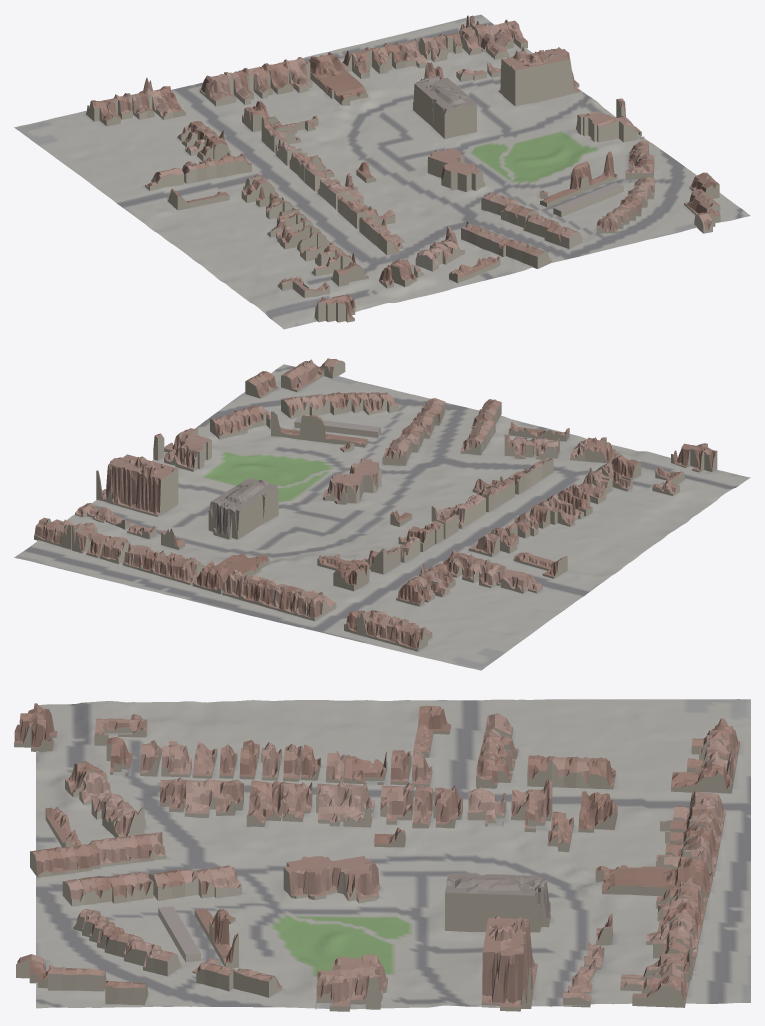
3 renders of one model, top to bottom at view 1: azimuth 30°, elevation 25°; view 2: azimuth 150°, elevation 25°; view 3: azimuth 270°, elevation 25°, orthographic. The views are drawn at different scales.
Visible parts, largest first — view 1: ground, b:way/170216479, b:way/170216469, b:way/671819658, b:way/170216414, b:way/170216482, b:way/170216398, b:way/93136311, b:way/170216468, b:way/170216391, b:way/170216412, b:way/179834030 (+10 smaller); view 2: ground, b:way/170216479, b:way/170216469, b:way/170216414, b:way/671819658, b:way/170216482, b:way/170216398, b:way/93136311, b:way/170216391, b:way/170216401, b:way/170216468, b:way/170216419 (+7 smaller); view 3: ground, b:way/170216469, b:way/170216479, b:way/170216414, b:way/671819658, b:way/170216482, b:way/170216391, b:way/170216460, b:way/93136311, b:way/170216398, b:way/671819107, b:way/170216401 (+45 smaller).
Boxes of the visible parts, x1=… form: ground: x1=14, y1=14, x2=750, y2=329; b:way/170216479: x1=498, y1=46, x2=580, y2=106; b:way/170216469: x1=413, y1=75, x2=476, y2=138; b:way/671819658: x1=309, y1=52, x2=368, y2=105; b:way/170216414: x1=427, y1=148, x2=485, y2=191; b:way/170216482: x1=576, y1=111, x2=644, y2=142; b:way/170216398: x1=540, y1=151, x2=617, y2=207; b:way/93136311: x1=314, y1=294, x2=355, y2=322; b:way/170216468: x1=553, y1=182, x2=623, y2=217; b:way/170216391: x1=317, y1=173, x2=363, y2=209; b:way/170216412: x1=379, y1=259, x2=416, y2=288; b:way/179834030: x1=449, y1=256, x2=500, y2=283; ground: x1=14, y1=364, x2=750, y2=670; b:way/170216479: x1=96, y1=454, x2=178, y2=516; b:way/170216469: x1=208, y1=478, x2=278, y2=539; b:way/170216414: x1=323, y1=459, x2=381, y2=504; b:way/671819658: x1=192, y1=553, x2=269, y2=594; b:way/170216482: x1=164, y1=428, x2=211, y2=471; b:way/170216398: x1=271, y1=411, x2=367, y2=447; b:way/93136311: x1=671, y1=443, x2=717, y2=472; b:way/170216391: x1=431, y1=494, x2=485, y2=528; b:way/170216401: x1=333, y1=563, x2=369, y2=591; b:way/170216468: x1=294, y1=417, x2=380, y2=437; b:way/170216419: x1=500, y1=570, x2=542, y2=593; ground: x1=36, y1=699, x2=750, y2=1009; b:way/170216469: x1=445, y1=873, x2=550, y2=932; b:way/170216479: x1=481, y1=915, x2=537, y2=1011; b:way/170216414: x1=283, y1=856, x2=380, y2=903; b:way/671819658: x1=595, y1=857, x2=712, y2=897; b:way/170216482: x1=315, y1=954, x2=387, y2=1011; b:way/170216391: x1=316, y1=781, x2=374, y2=827; b:way/170216460: x1=511, y1=779, x2=552, y2=832; b:way/93136311: x1=14, y1=703, x2=57, y2=752; b:way/170216398: x1=194, y1=908, x2=238, y2=968; b:way/671819107: x1=671, y1=764, x2=732, y2=793; b:way/170216401: x1=578, y1=791, x2=617, y2=832.
Bounding box in the file's own units: 253 × 24.42 × 258.
